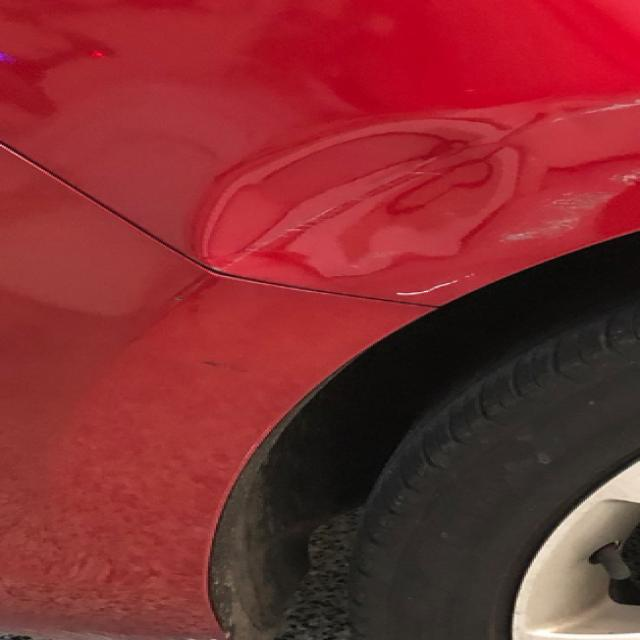dents: (213, 83, 523, 280)
